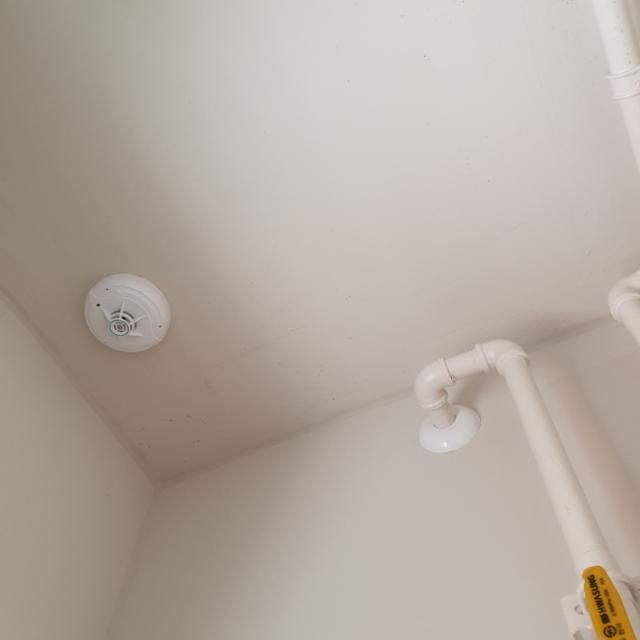Smoke-Detector: (84, 275, 172, 351)
